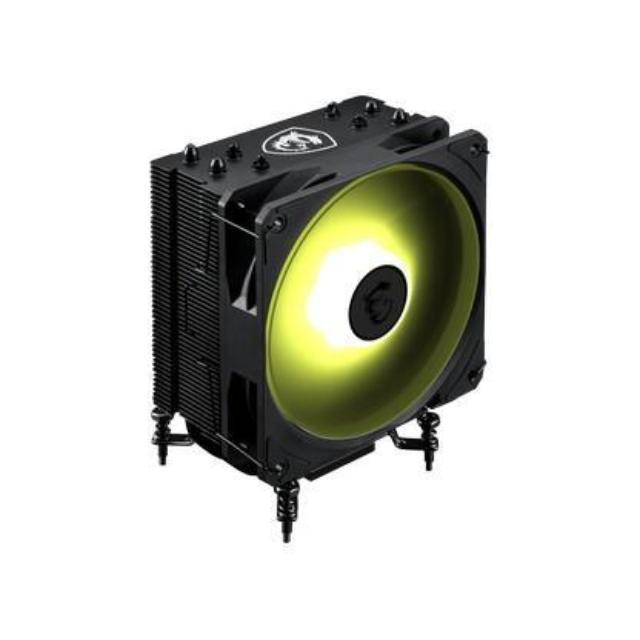CPU_Fan: (148, 96, 486, 533)
